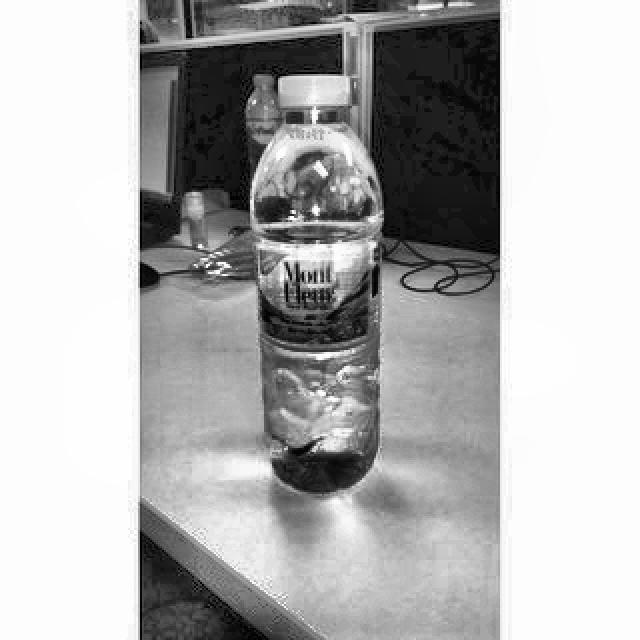waterbottle: (252, 76, 384, 492)
